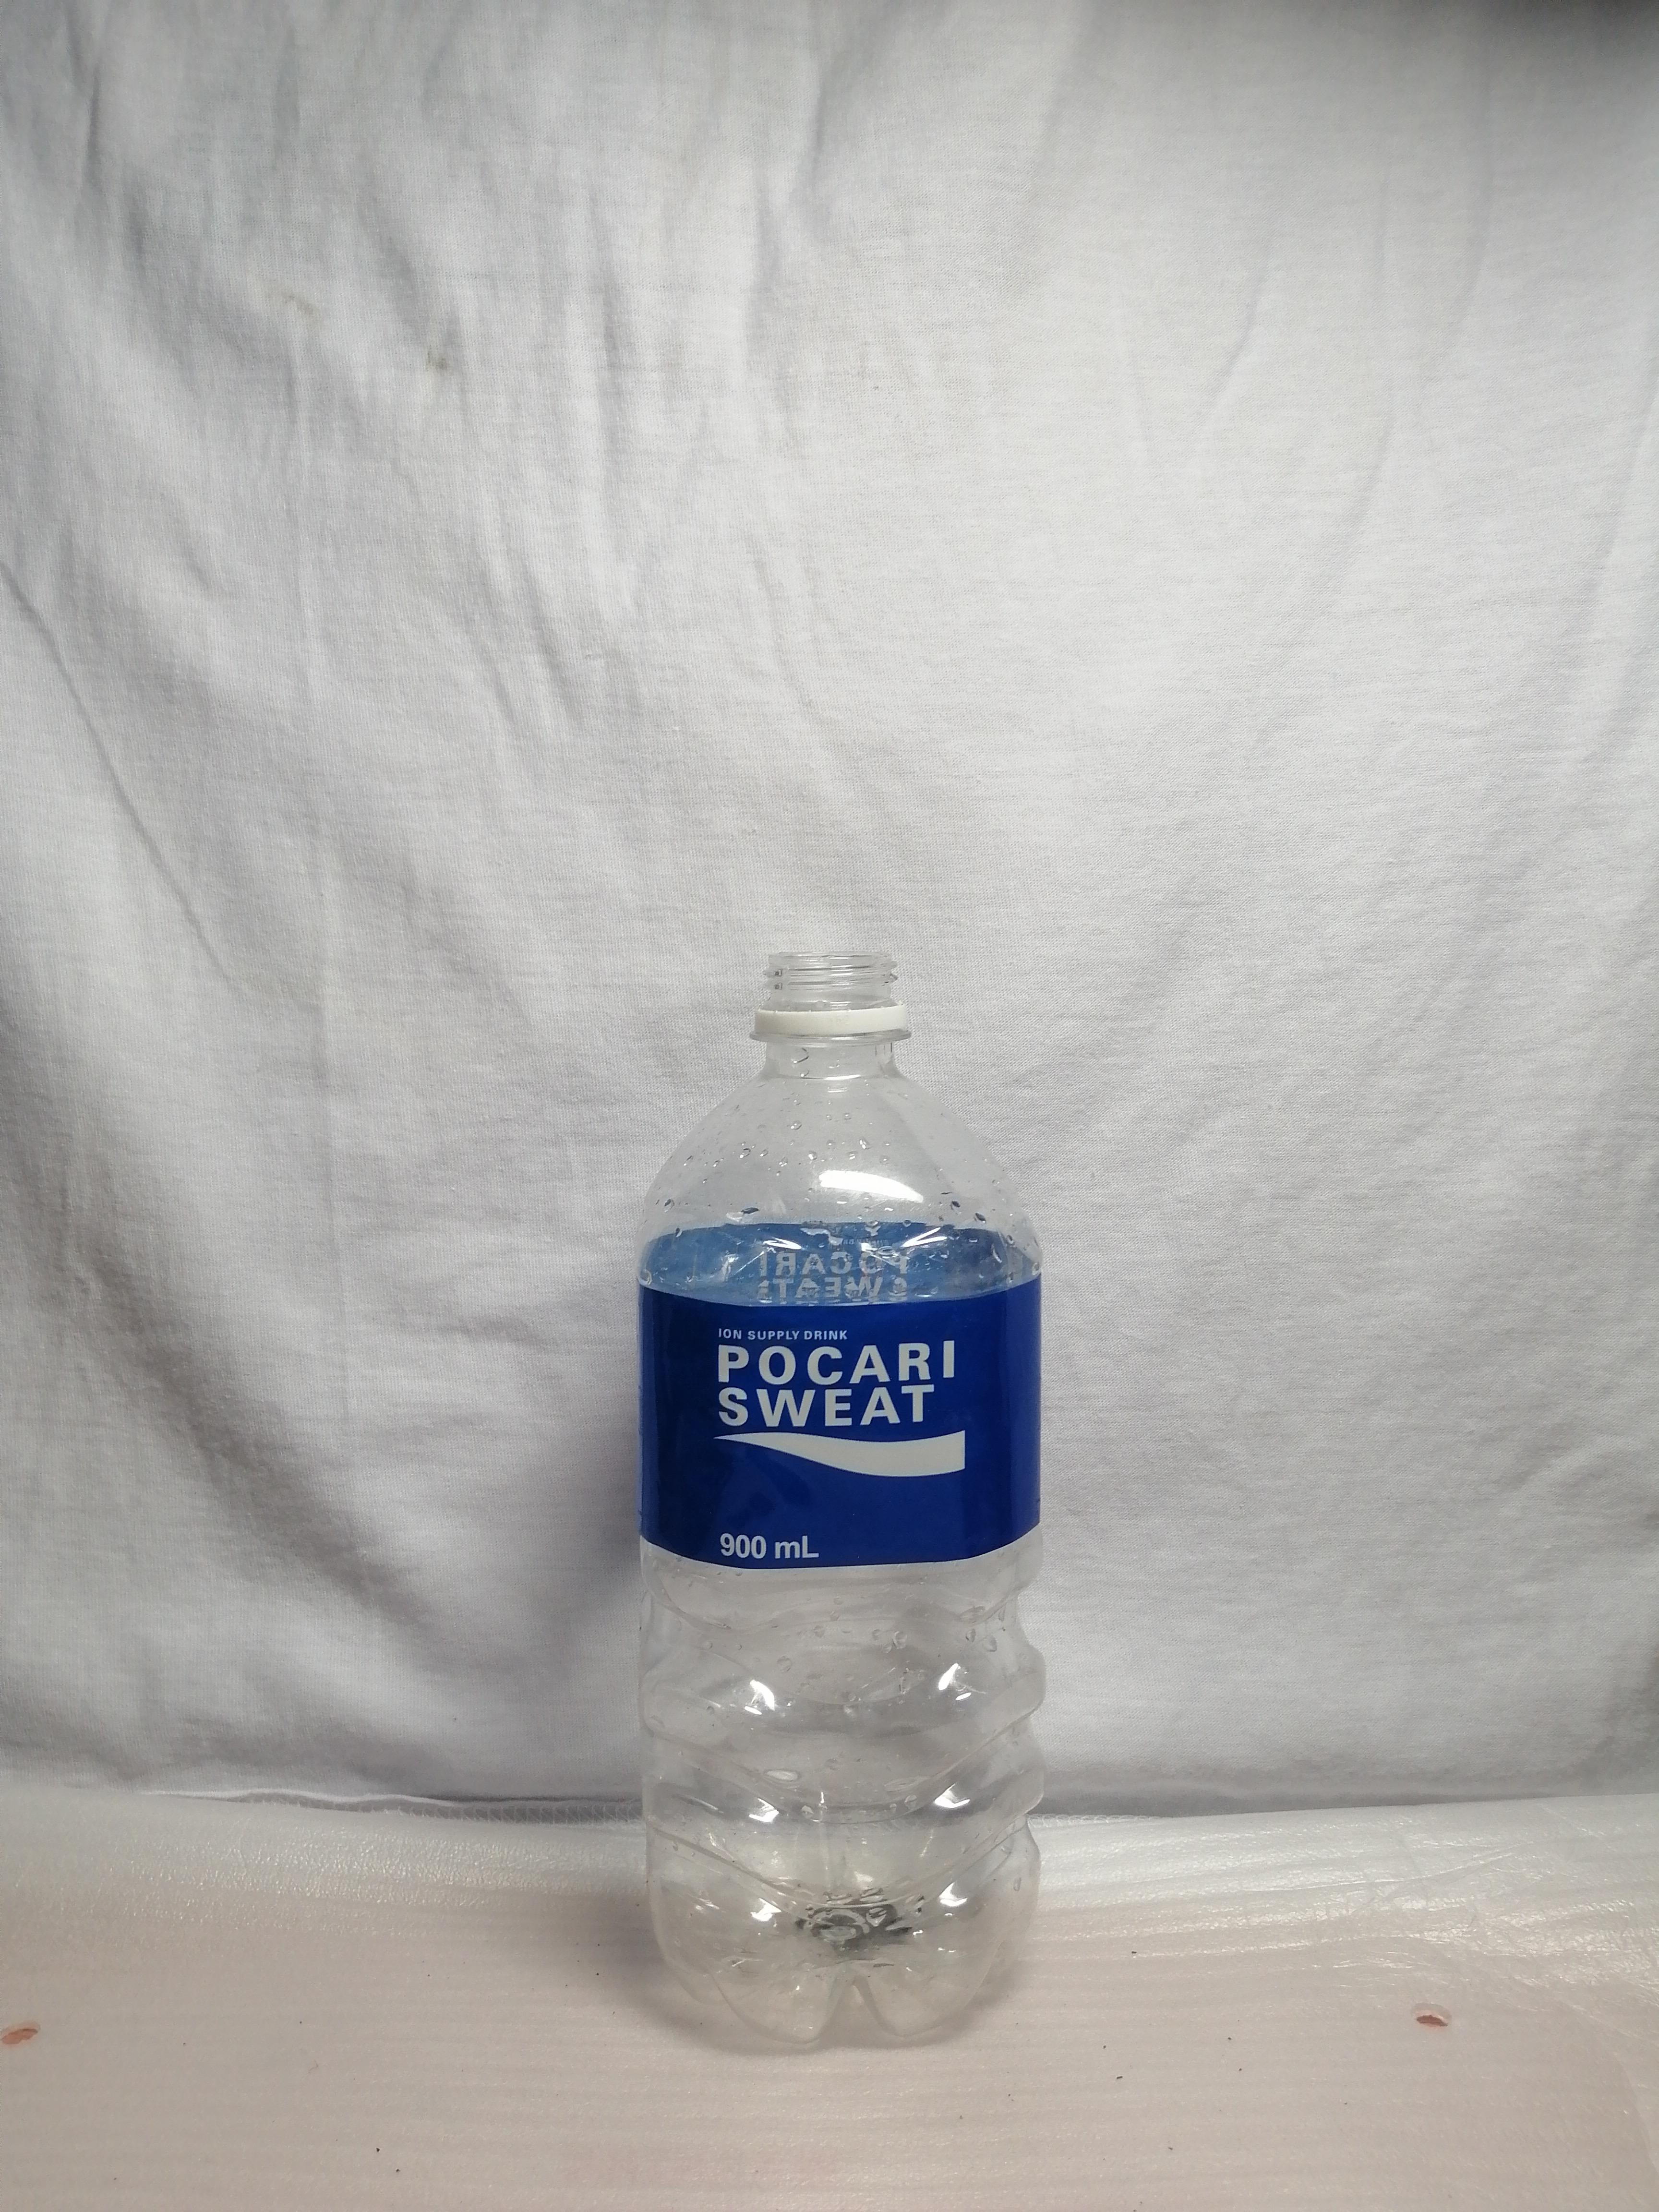plastic-bottle: (619, 922, 1080, 2083)
